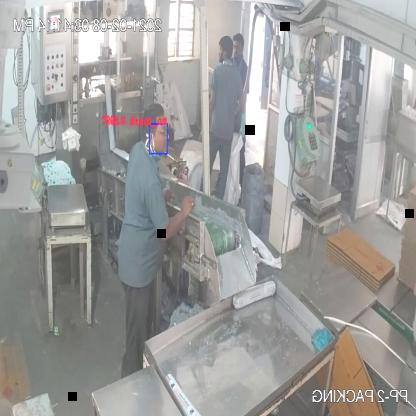no_glove: (155, 184, 201, 248)
